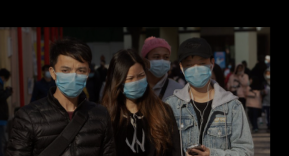with_mask: (52, 63, 90, 99), (184, 55, 213, 88), (120, 70, 149, 100), (146, 51, 172, 77)
